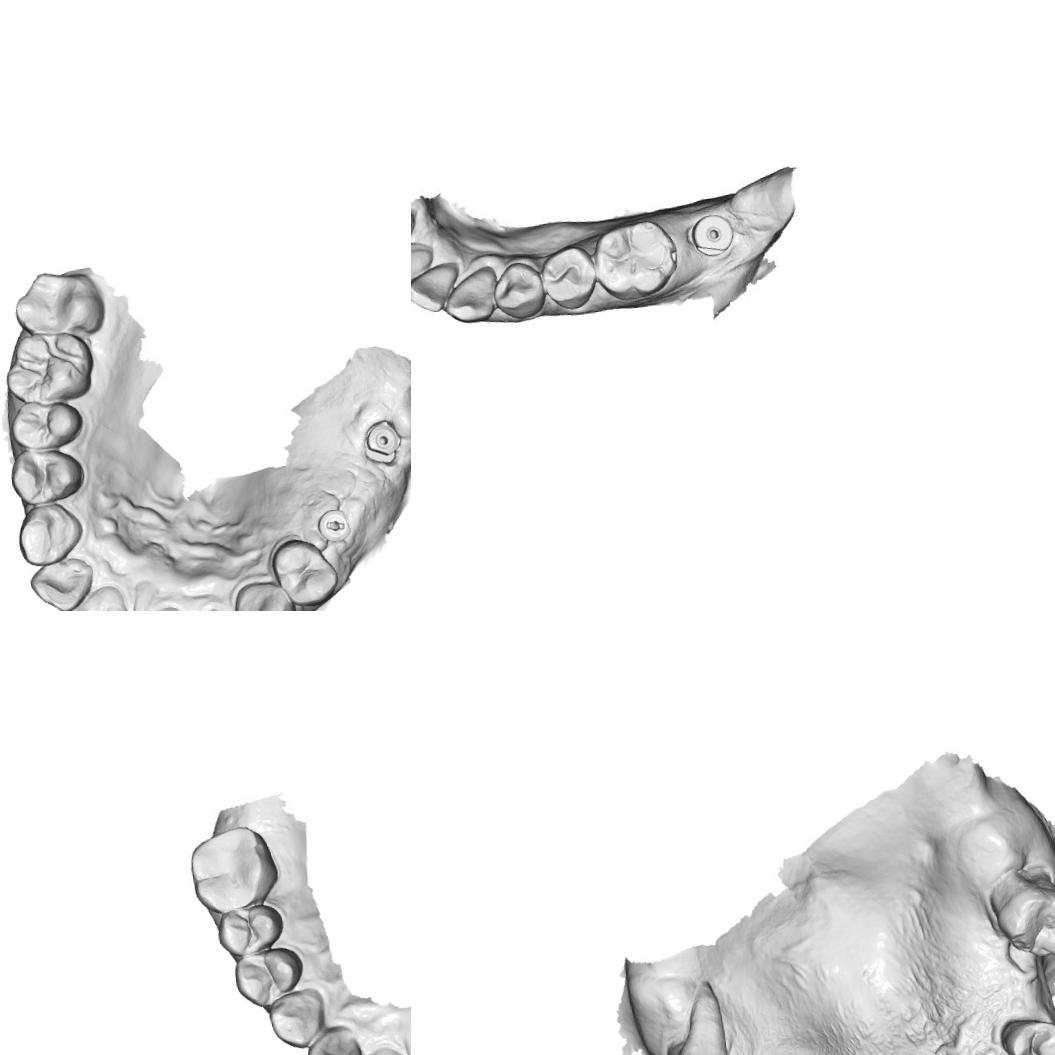canine: (13, 498, 95, 572), (263, 986, 331, 1052), (442, 270, 502, 328), (229, 575, 298, 611)
implant: (689, 211, 739, 261), (361, 418, 408, 460)
implant_minus: (313, 506, 356, 546)
incisor: (23, 553, 98, 611), (55, 578, 137, 611), (411, 264, 457, 315), (304, 1023, 365, 1055), (411, 244, 435, 302)
molar: (185, 822, 283, 917), (588, 214, 683, 304), (0, 324, 99, 410), (7, 263, 106, 343), (990, 879, 1055, 965), (650, 1036, 737, 1055)
premolar: (269, 534, 343, 611), (3, 444, 87, 510), (1, 394, 86, 456), (231, 944, 307, 1011), (214, 900, 287, 960), (536, 240, 596, 312), (488, 258, 545, 328), (997, 1011, 1055, 1055)
